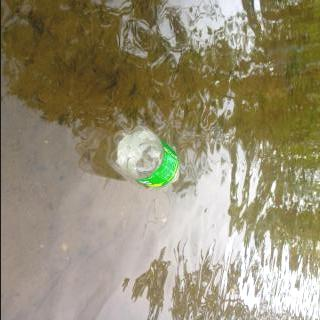bottle: (108, 125, 180, 189)
